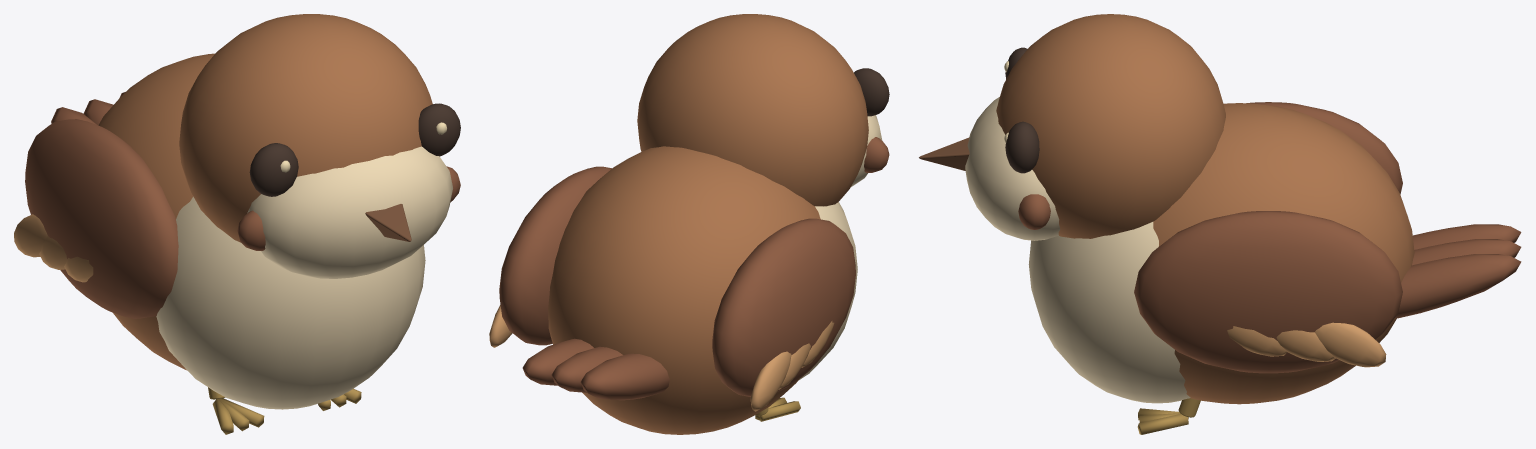
The model's file is bird.glb.
3 renders of one model, left to right at view 1: azimuth 30°, elevation 25°; view 2: azimuth 150°, elevation 25°; view 3: azimuth 270°, elevation 25°, orthographic. The views are drawn at different scales.
Visible parts, largest first — view 1: head, body, wingR; view 2: body, head, wingR, wingL; view 3: body, head, wingL, wingR.
Boxes of the visible parts, <box> form: head: <box>179,14,460,278</box>; body: <box>51,53,425,434</box>; wingR: <box>14,119,178,318</box>; body: <box>522,146,857,434</box>; head: <box>637,14,889,206</box>; wingR: <box>712,218,855,411</box>; wingL: <box>489,166,611,347</box>; body: <box>1028,103,1521,434</box>; head: <box>919,14,1225,240</box>; wingL: <box>1134,211,1402,373</box>; wingR: <box>1246,102,1402,194</box>.
Size of the model in its own units: 0.0476 by 0.0587 by 0.0846.
